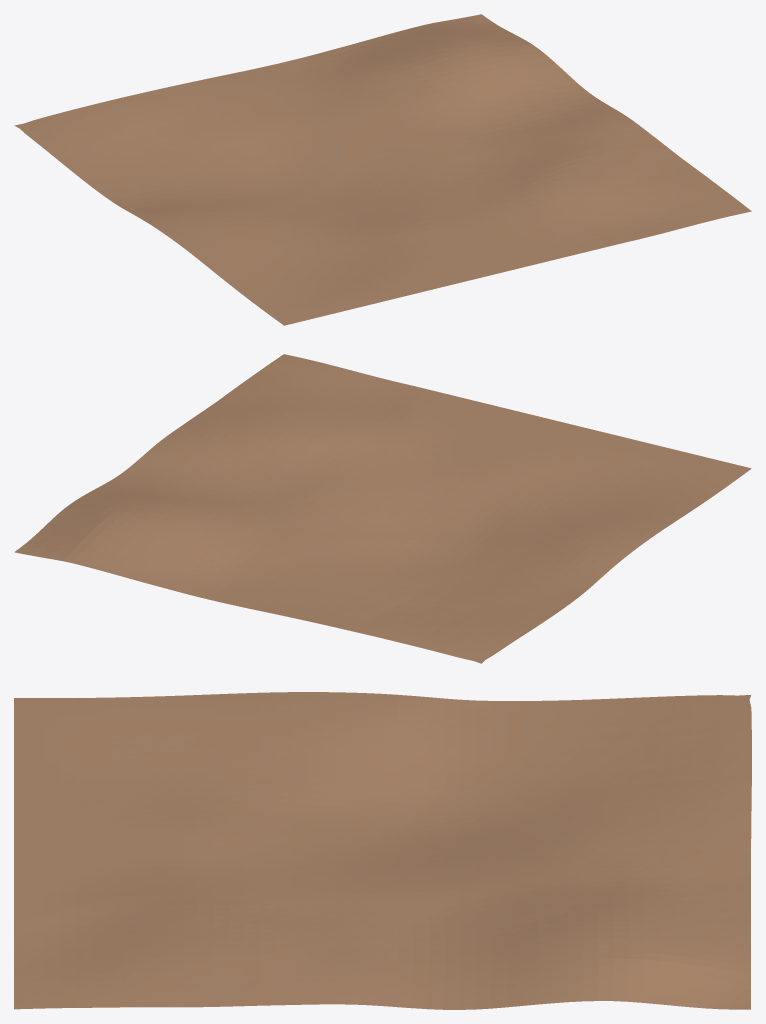
Rendered from chap2terr 2.fbx.
The picture shows the model from 3 angles, top to bottom: view 1: azimuth 30°, elevation 25°; view 2: azimuth 150°, elevation 25°; view 3: azimuth 270°, elevation 25°; orthographic projection. The views are drawn at different scales.
Parts seen in each view (by area): view 1: Plane.017; view 2: Plane.017; view 3: Plane.017.
Part boxes in pixels (box(x1,y1,x2,y2)): Plane.017: box(14, 14, 751, 325); Plane.017: box(14, 354, 751, 663); Plane.017: box(14, 692, 751, 1009).
Bounding box in the file's own units: 44.11 × 2.31 × 44.13.
